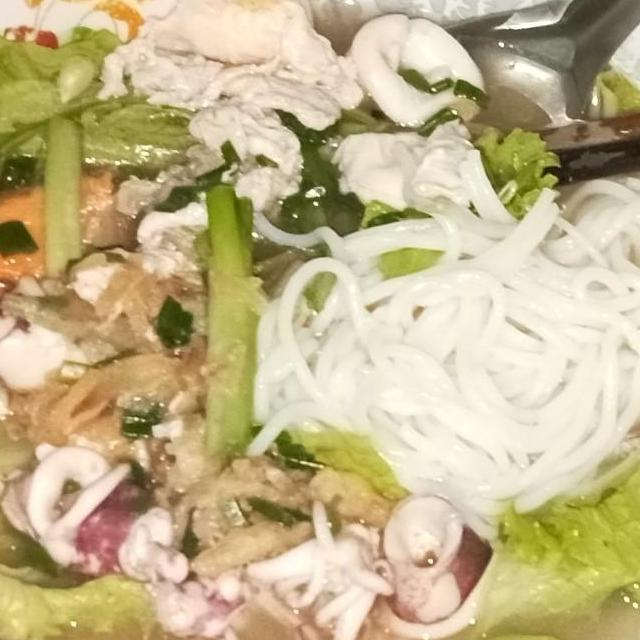bun: (0, 91, 400, 481)
muc: (439, 49, 640, 203), (231, 0, 403, 144), (135, 0, 266, 151), (143, 503, 301, 626), (303, 0, 512, 86), (557, 227, 640, 372)
trung: (270, 344, 543, 640), (156, 423, 314, 524)
